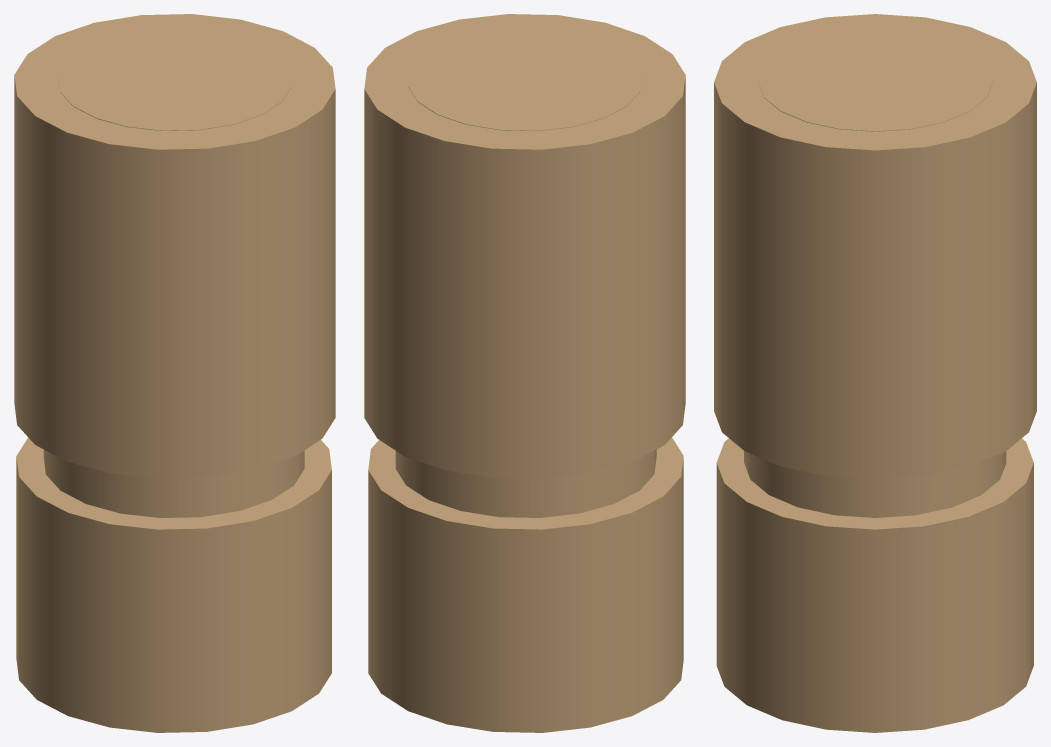
3 views of the same model, side by side, from view 1: azimuth 30°, elevation 25°; view 2: azimuth 150°, elevation 25°; view 3: azimuth 270°, elevation 25° (orthographic).
Visible parts, largest first — view 1: 丸2_白; view 2: 丸2_白; view 3: 丸2_白.
Boxes of the visible parts, x1,y1,x2,y2 form: 丸2_白: (14, 14, 335, 732); 丸2_白: (364, 14, 685, 732); 丸2_白: (714, 14, 1036, 732).
Bounding box in the file's own units: 0.0261 × 0.0522 × 0.0261.
